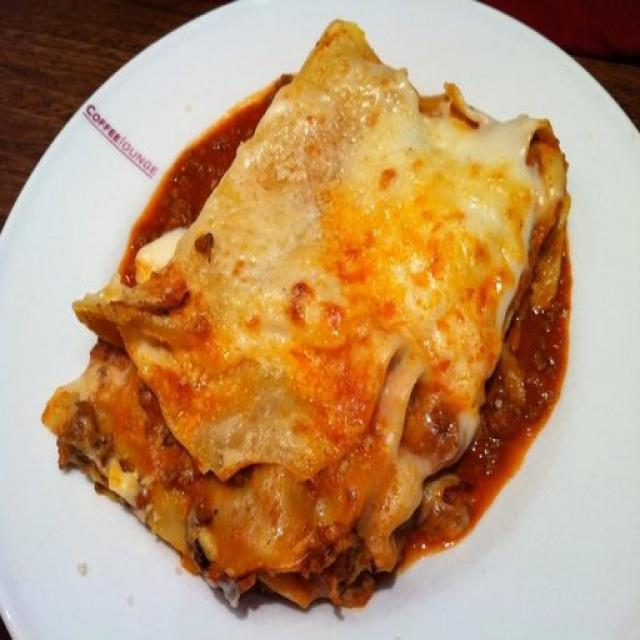Lasagna: (39, 5, 579, 618)
